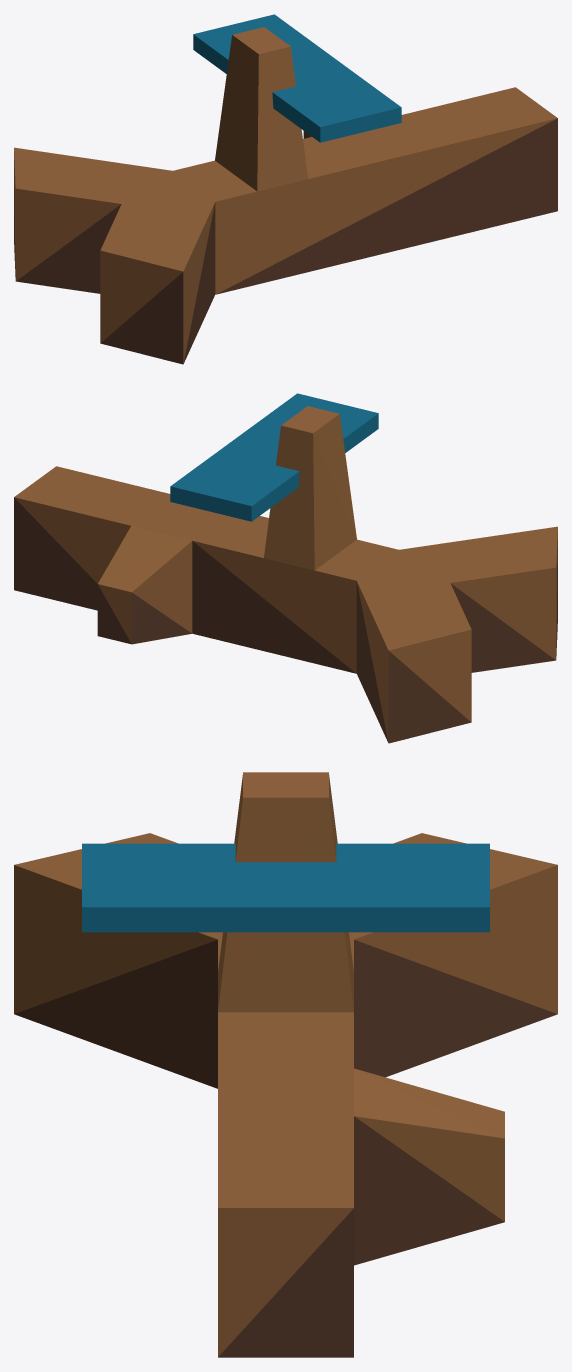
File: scrap-logs-sky.glb
The picture shows the model from 3 angles, top to bottom: view 1: azimuth 30°, elevation 25°; view 2: azimuth 150°, elevation 25°; view 3: azimuth 270°, elevation 25°; orthographic projection. The views are drawn at different scales.
Visible parts, largest first — view 1: scrap-logs-sky; view 2: scrap-logs-sky; view 3: scrap-logs-sky.
Part boxes in pixels (<box>): scrap-logs-sky: <box>14,14,557,364</box>; scrap-logs-sky: <box>14,393,557,743</box>; scrap-logs-sky: <box>14,772,557,1357</box>.
Size of the model in its own units: 1.24 by 0.55 by 0.76.
